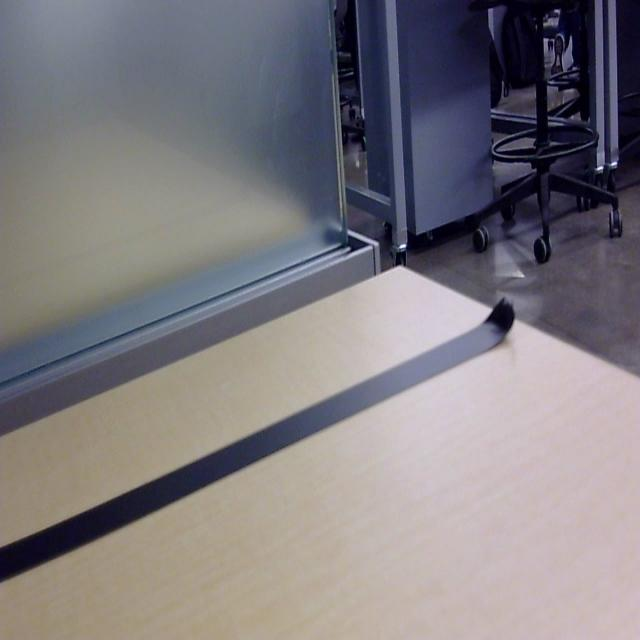tape: (0, 290, 531, 605)
